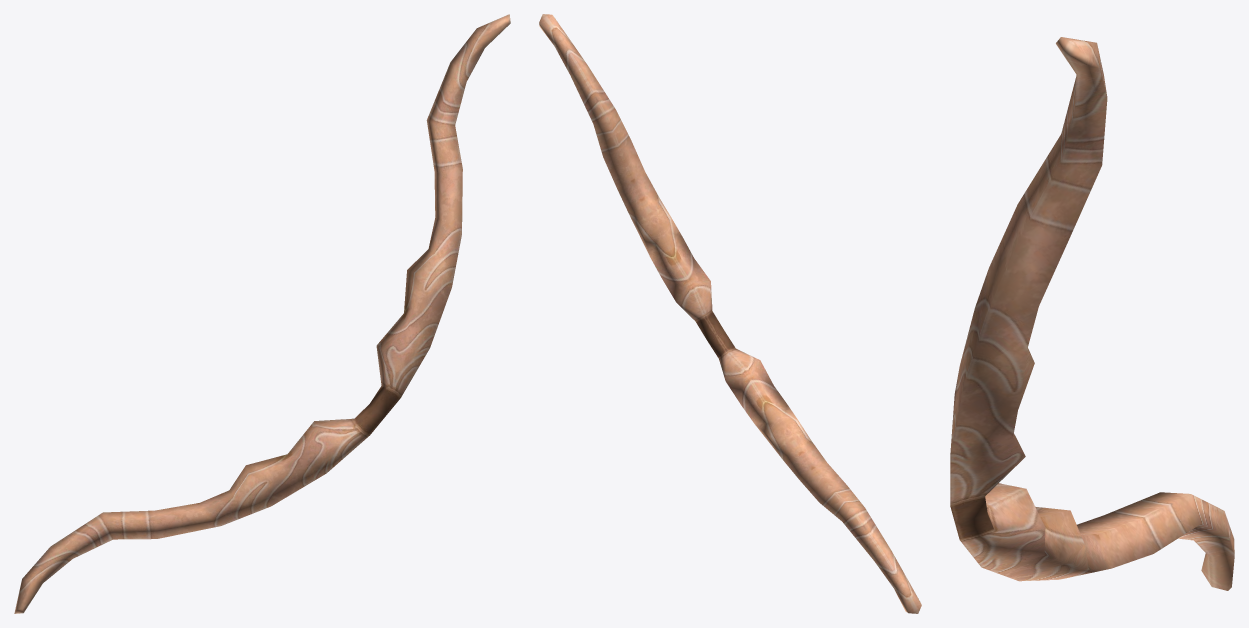
The model's file is weapon-ironweapons.glb.
The picture shows the model from 3 angles, left to right: view 1: azimuth 30°, elevation 25°; view 2: azimuth 150°, elevation 25°; view 3: azimuth 270°, elevation 25°; orthographic projection. The views are drawn at different scales.
Bounding box in the file's own units: 1.12 × 1.22 × 0.3326.
1 material, 1 textured.
